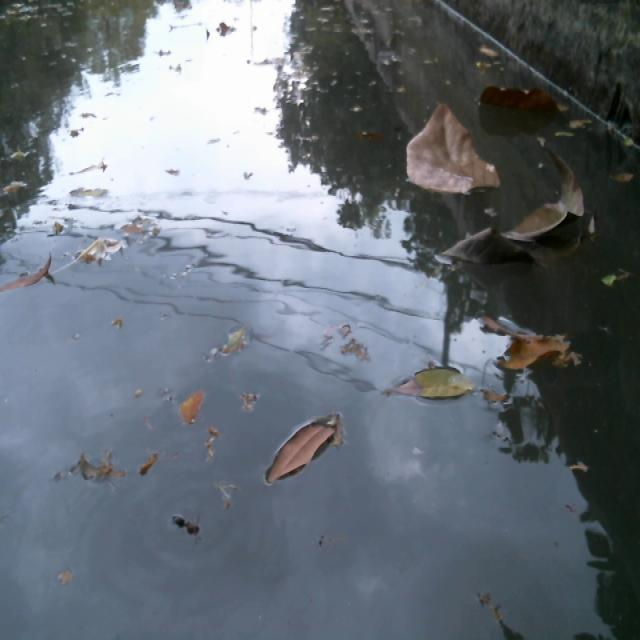Big-leaf: (439, 152, 589, 276), (401, 96, 502, 205), (482, 314, 585, 397), (469, 68, 578, 138)
Small-leaf: (264, 398, 338, 491), (388, 355, 470, 406), (169, 382, 221, 429), (468, 26, 503, 65)
